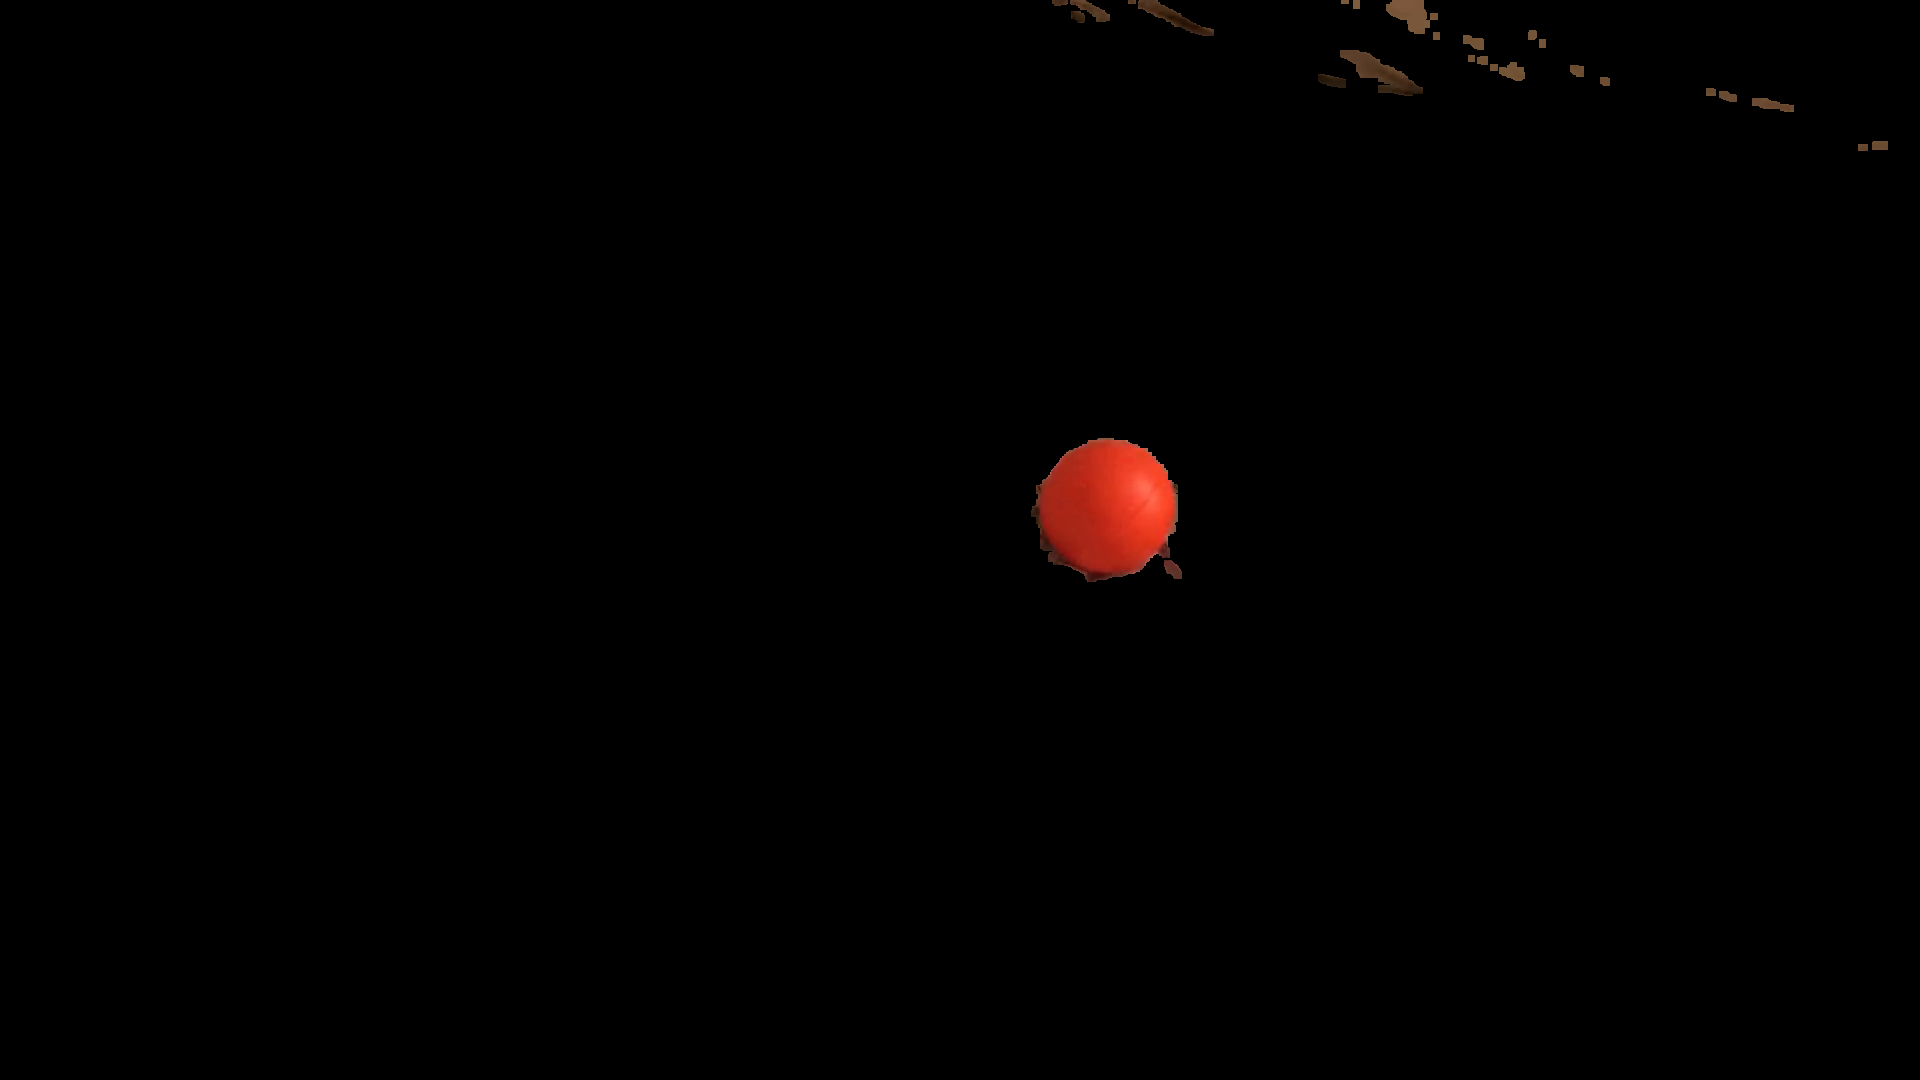Ball: (1043, 439, 1174, 571)
